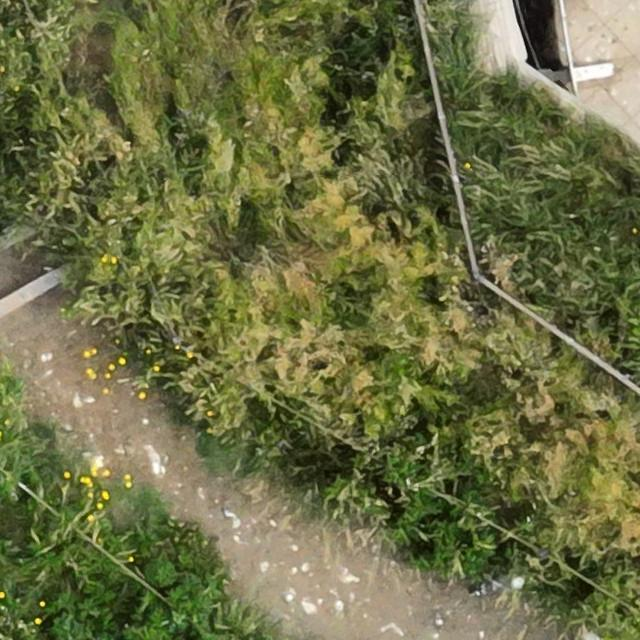umineko: (484, 574, 522, 592)
